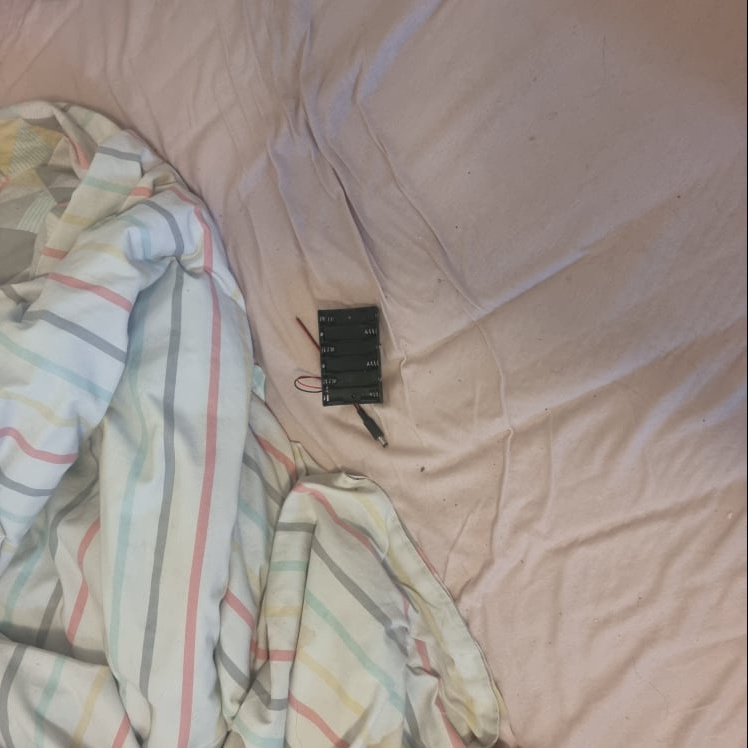BATTERY BOX: (318, 303, 387, 408)
